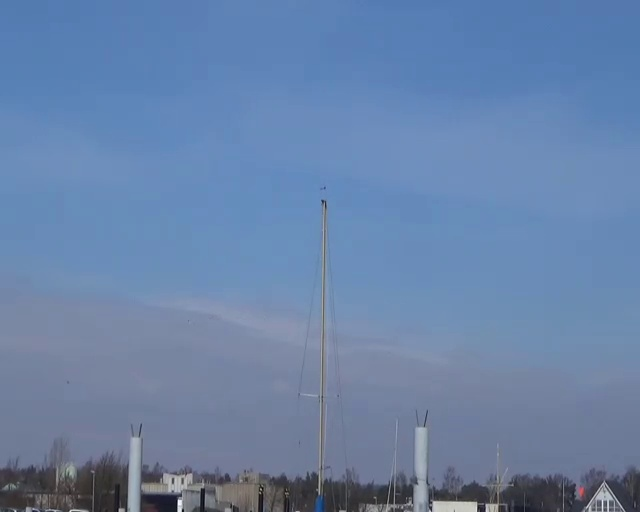BIRD: (185, 316, 194, 328)
